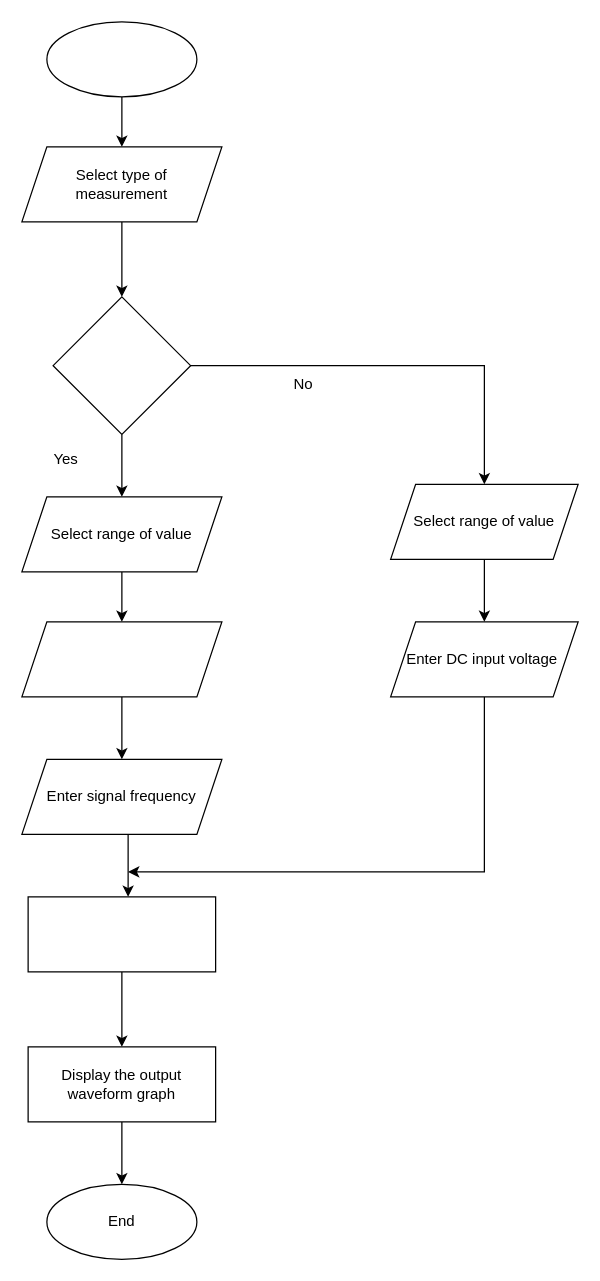
This 600x1281 diagram has some shape labels left out. Here are the shapes that lost their labels. From the top down, the centre of each, then its label:
At point 121,59: "Start".
At point 121,365: "Type of measurement= voltage_AC".
At point 121,659: "Enter AC input voltage".
At point 121,934: "save selected data".
